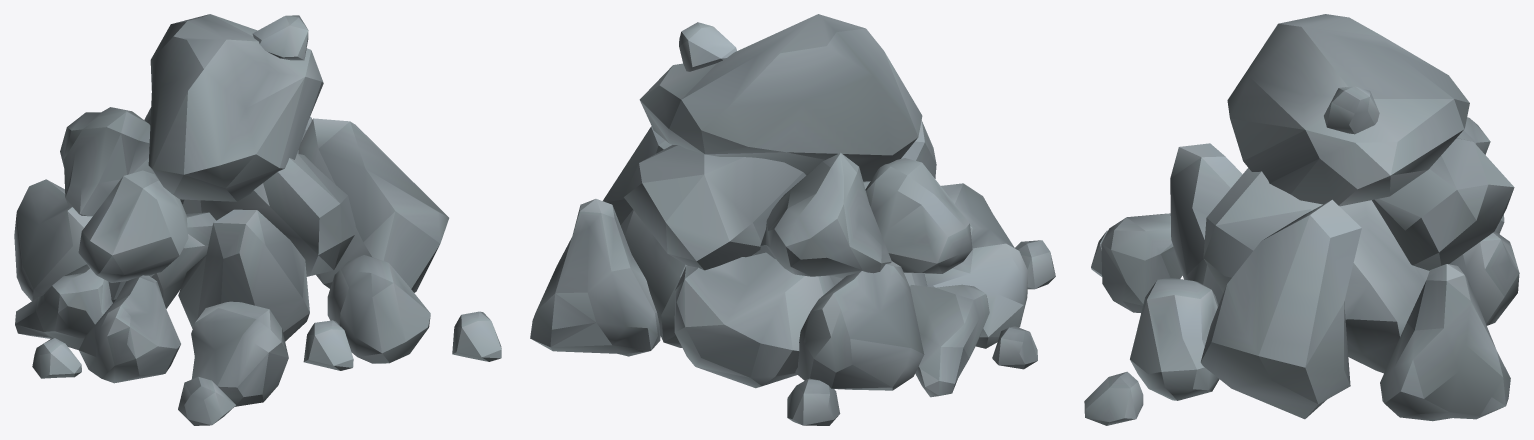
Rendered from stone-chunks-large.glb.
The picture shows the model from 3 angles, left to right: view 1: azimuth 30°, elevation 25°; view 2: azimuth 150°, elevation 25°; view 3: azimuth 270°, elevation 25°; orthographic projection. The views are drawn at different scales.
Visible parts, largest first — view 1: Stone_Chunks_Large; view 2: Stone_Chunks_Large; view 3: Stone_Chunks_Large.
Part boxes in pixels (x1,y1,x2,y2): Stone_Chunks_Large: (14, 14, 501, 425); Stone_Chunks_Large: (530, 14, 1055, 425); Stone_Chunks_Large: (1084, 14, 1519, 425).
Size of the model in its own units: 1.5 by 1.08 by 1.35.
Materials: 1 (1 with a texture image).
